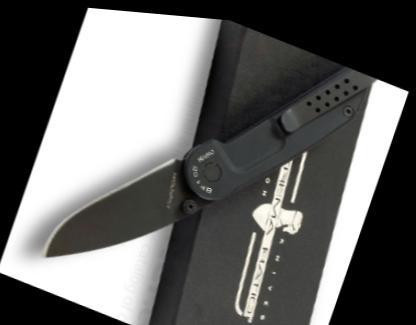knife: (33, 88, 235, 314)
